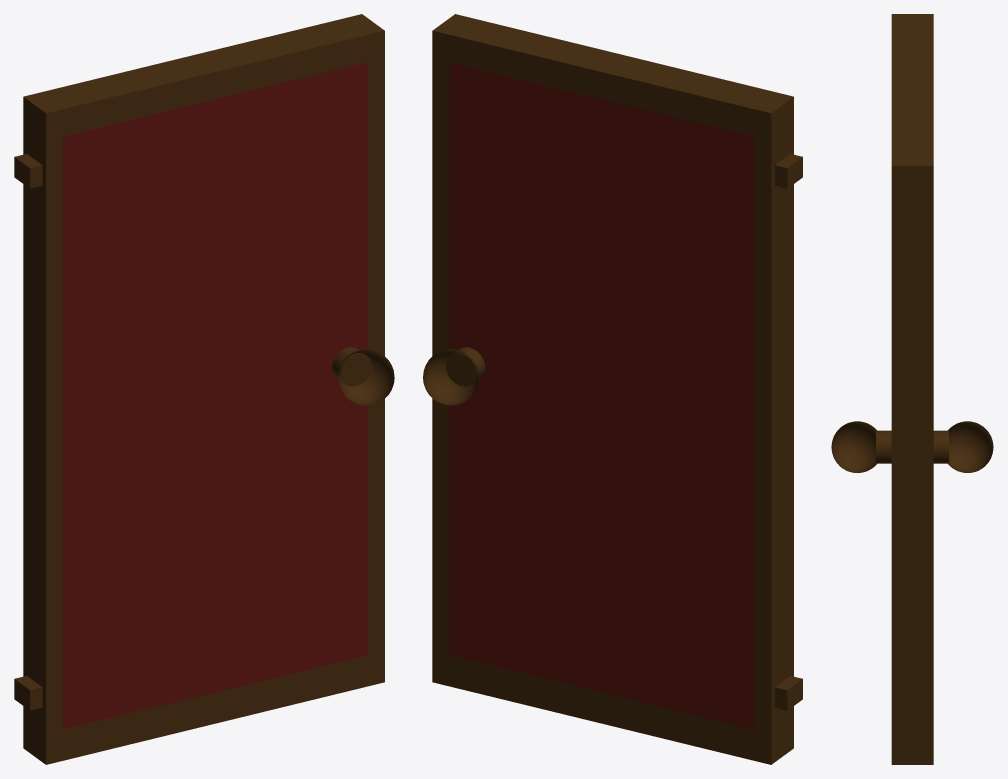
File: door.glb
3 renders of one model, left to right at view 1: azimuth 30°, elevation 25°; view 2: azimuth 150°, elevation 25°; view 3: azimuth 270°, elevation 25°, orthographic. The views are drawn at different scales.
Visible parts, largest first — view 1: Cube; view 2: Cube; view 3: Cube.
Boxes of the visible parts, x1,y1,x2,y2 form: Cube: [14, 14, 394, 764]; Cube: [423, 14, 802, 764]; Cube: [831, 14, 993, 764].
Size of the model in its own units: 2.97 by 5.26 by 1.29.
